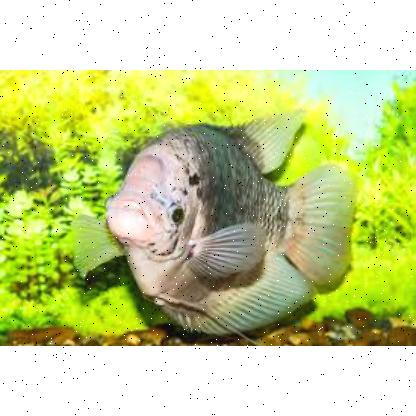gurame: (74, 110, 354, 332)
